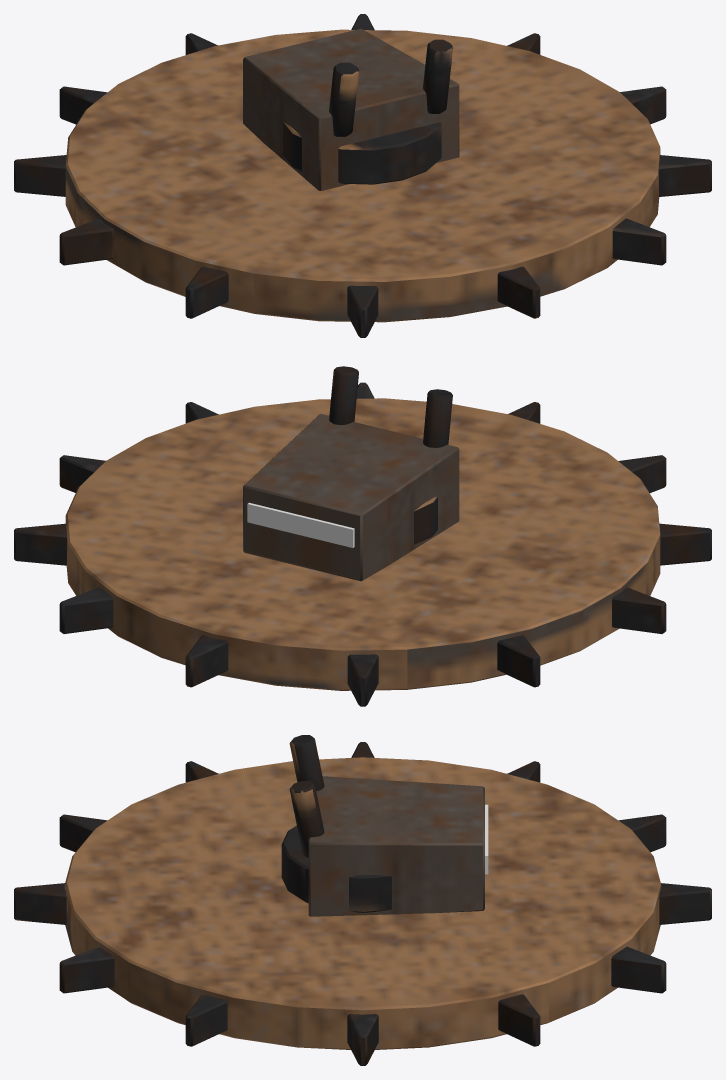
File: Ferrocefalos_Fighter.fbx
3 renders of one model, top to bottom at view 1: azimuth 30°, elevation 25°; view 2: azimuth 150°, elevation 25°; view 3: azimuth 270°, elevation 25°, orthographic.
Visible parts, largest first — view 1: Rotor, Body; view 2: Rotor, Body, BodyBrillo; view 3: Rotor, Body.
Part boxes in pixels (x1,y1,x2,y2): Rotor: [14, 14, 711, 337]; Body: [243, 28, 459, 190]; Rotor: [14, 382, 711, 706]; Body: [243, 366, 459, 581]; BodyBrillo: [247, 502, 354, 547]; Rotor: [14, 742, 711, 1065]; Body: [281, 735, 484, 916].
Size of the model in its own units: 1030 by 268 by 1030.
